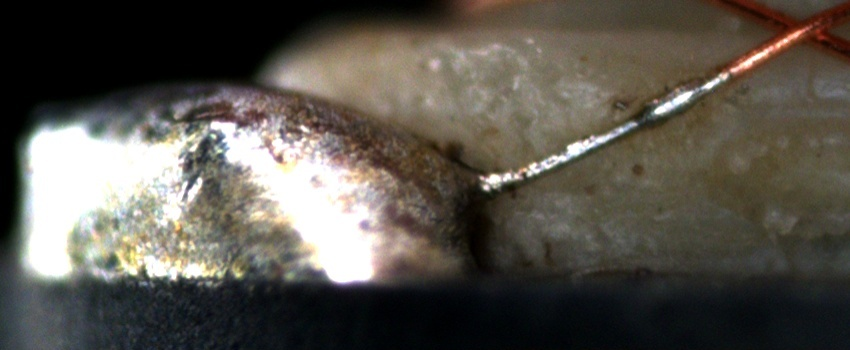CL: (756, 2, 845, 55)
DL: (556, 67, 850, 103)
TB: (640, 78, 702, 126)
TS: (475, 73, 724, 195)
TTCW: (477, 35, 778, 197)
